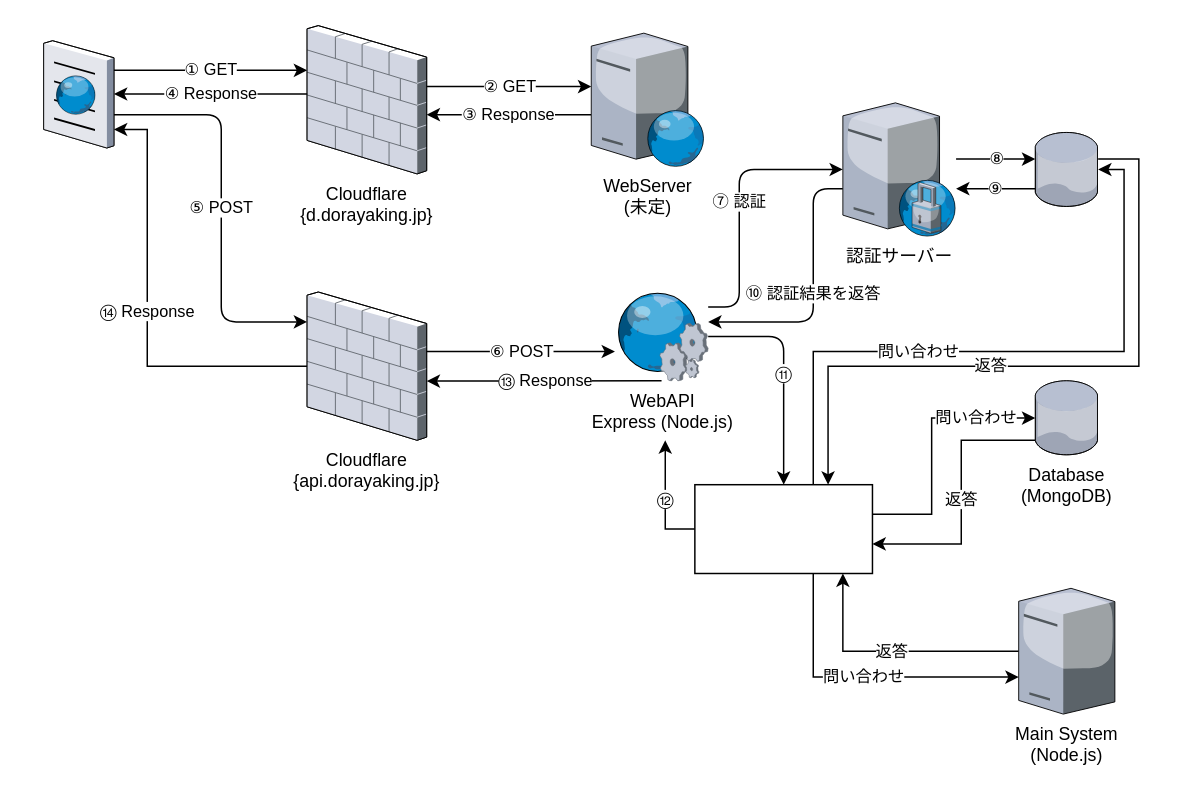
This 1177x793 diagram has some shape labels left out. The centre of each missing label's shape, as x and y in pixels:
"Database (MariaDB)" goes at (1066,169).
"クライアント ブラウザ" goes at (78,93).
"内容に応じて処理" goes at (782,528).
